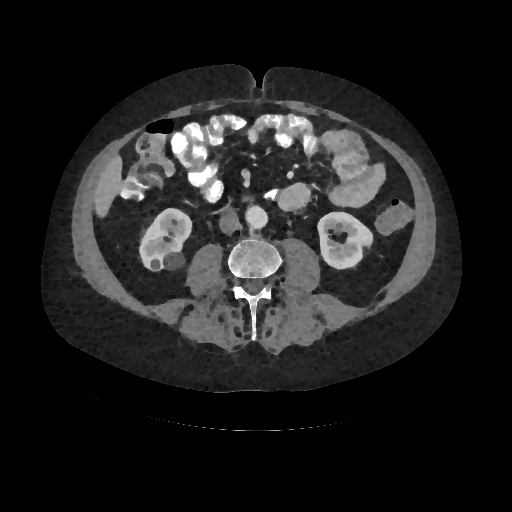Lesion: (161, 248, 188, 273)
